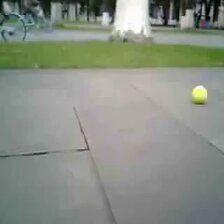tennis: (192, 85, 207, 104)
